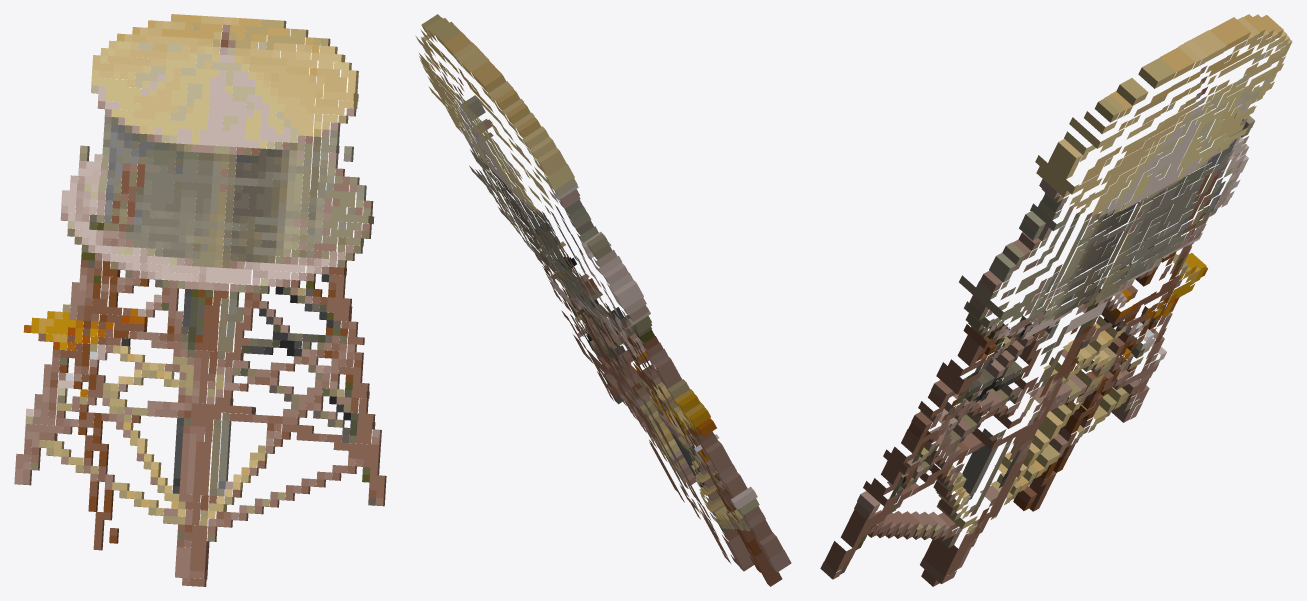
Rendered from cgwt01.glb.
3 renders of one model, left to right at view 1: azimuth 30°, elevation 25°; view 2: azimuth 150°, elevation 25°; view 3: azimuth 270°, elevation 25°, orthographic. The views are drawn at different scales.
Visible parts, largest first — view 1: cgwt01; view 2: cgwt01; view 3: cgwt01.
Boxes of the visible parts, x1,y1,x2,y2 form: cgwt01: [14, 14, 386, 586]; cgwt01: [415, 14, 791, 586]; cgwt01: [820, 14, 1292, 586].
Bounding box in the file's own units: 1.46 × 2.01 × 1.38.
